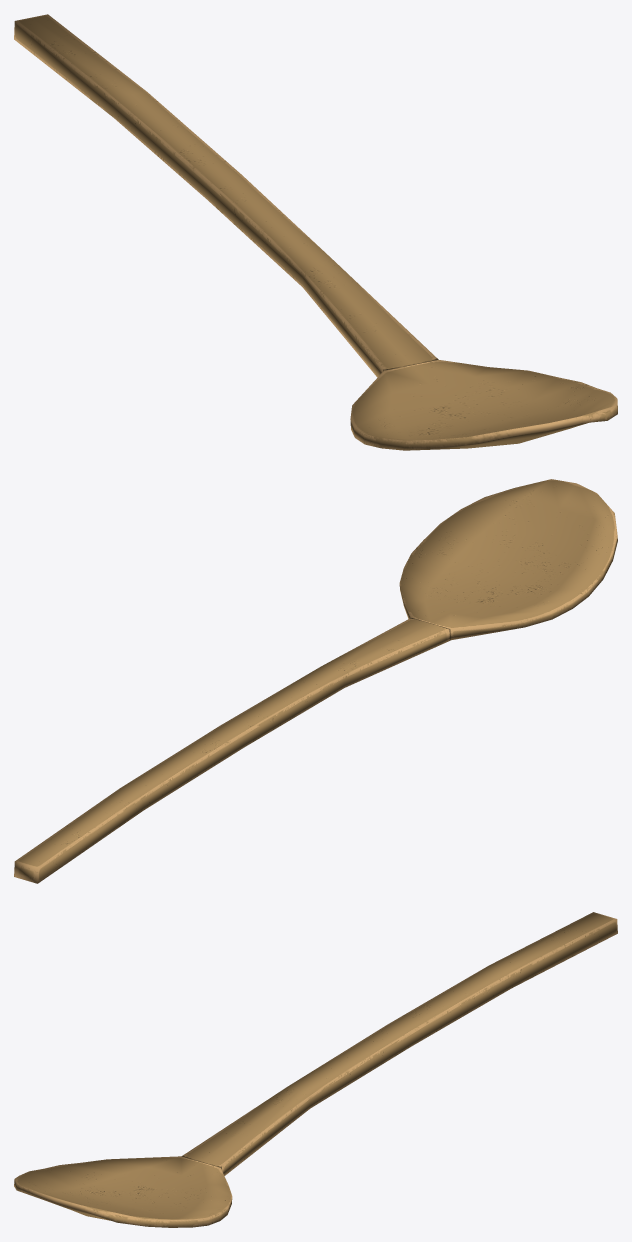
Rendered from sutgarak.glb.
3 views of the same model, one above another, from view 1: azimuth 30°, elevation 25°; view 2: azimuth 150°, elevation 25°; view 3: azimuth 330°, elevation 25° (orthographic). The views are drawn at different scales.
Parts seen in each view (by area): view 1: SM_ Spoon_And_Chopsticks_M_ Spoon_and_Chopsticks_0, SM_ Spoon_And_Chopsticks_M_ Spoon_and_Chopsticks_0.001; view 2: SM_ Spoon_And_Chopsticks_M_ Spoon_and_Chopsticks_0, SM_ Spoon_And_Chopsticks_M_ Spoon_and_Chopsticks_0.001; view 3: SM_ Spoon_And_Chopsticks_M_ Spoon_and_Chopsticks_0, SM_ Spoon_And_Chopsticks_M_ Spoon_and_Chopsticks_0.001.
Boxes of the visible parts, left/top/right/bottom form: SM_ Spoon_And_Chopsticks_M_ Spoon_and_Chopsticks_0: left=15, top=14, right=617, bottom=440; SM_ Spoon_And_Chopsticks_M_ Spoon_and_Chopsticks_0.001: left=14, top=21, right=617, bottom=450; SM_ Spoon_And_Chopsticks_M_ Spoon_and_Chopsticks_0: left=15, top=479, right=617, bottom=868; SM_ Spoon_And_Chopsticks_M_ Spoon_and_Chopsticks_0.001: left=37, top=535, right=617, bottom=883; SM_ Spoon_And_Chopsticks_M_ Spoon_and_Chopsticks_0: left=15, top=912, right=616, bottom=1220; SM_ Spoon_And_Chopsticks_M_ Spoon_and_Chopsticks_0.001: left=14, top=919, right=617, bottom=1227.
Size of the model in its own units: 0.0407 by 0.0151 by 0.1933.
Materials: 1 (1 with a texture image).
